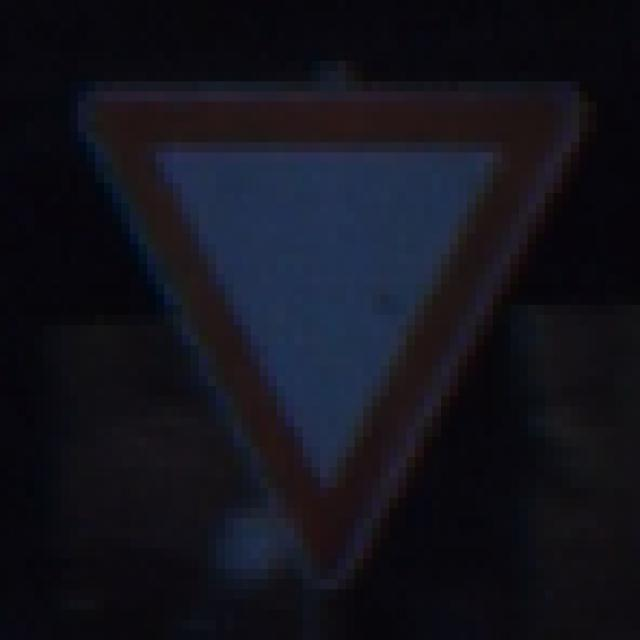Give Way: (62, 62, 589, 590)
